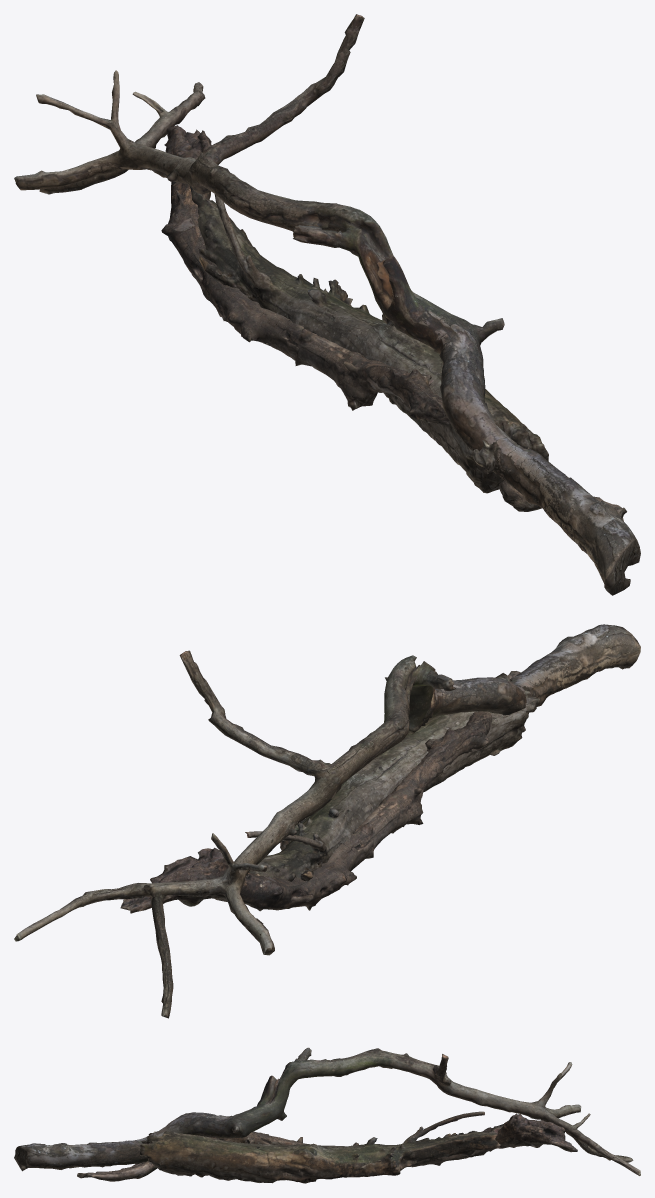
The model's file is dry_branches_medium_01.glb.
3 views of the same model, one above another, from view 1: azimuth 30°, elevation 25°; view 2: azimuth 150°, elevation 25°; view 3: azimuth 270°, elevation 25° (orthographic). The views are drawn at different scales.
Visible parts, largest first — view 1: dry_branches_medium_01_0, dry_branches_medium_01_2, dry_branches_medium_01_1; view 2: dry_branches_medium_01_0, dry_branches_medium_01_1, dry_branches_medium_01_2; view 3: dry_branches_medium_01_0, dry_branches_medium_01_2, dry_branches_medium_01_1.
Part boxes in pixels (x1=…): dry_branches_medium_01_0: x1=14, y1=14, x2=640, y2=595; dry_branches_medium_01_2: x1=189, y1=185, x2=548, y2=493; dry_branches_medium_01_1: x1=161, y1=125, x2=626, y2=521; dry_branches_medium_01_0: x1=14, y1=624, x2=640, y2=1018; dry_branches_medium_01_1: x1=120, y1=671, x2=525, y2=913; dry_branches_medium_01_2: x1=245, y1=673, x2=539, y2=881; dry_branches_medium_01_0: x1=14, y1=1047, x2=640, y2=1175; dry_branches_medium_01_2: x1=140, y1=1111, x2=503, y2=1183; dry_branches_medium_01_1: x1=77, y1=1113, x2=577, y2=1181.
Size of the model in its own units: 0.3231 by 0.341 by 1.3.
Materials: 1 (1 with a texture image).
